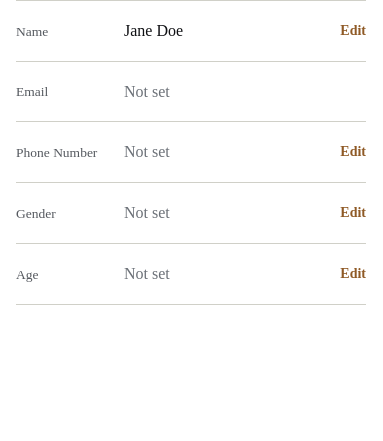
ProfileScreen › editing the phone number › shows a failed save rather than pretending it worked
Click the button with test id "profile-edit-phone": (353, 152) left=340, top=130, right=366, bottom=174
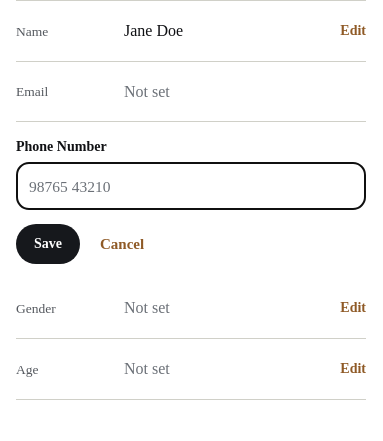
In the field with test id "profile-phone-input": (191, 186) left=16, top=162, right=366, bottom=210, type "9876543210"
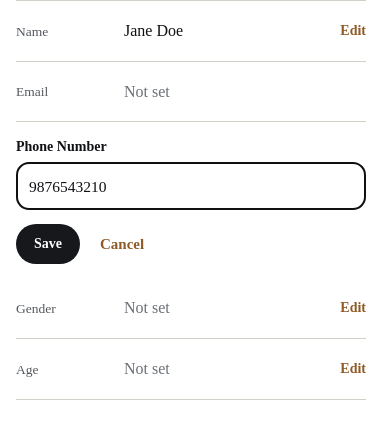
Click the button with test id "profile-save": (48, 244) left=16, top=224, right=80, bottom=264
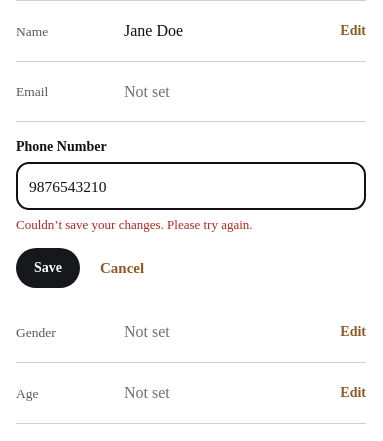
Expected: the text with test id "profile-phone-input-error" reads "Couldn’t save your changes. Please try again.", left=16, top=217, right=253, bottom=232
